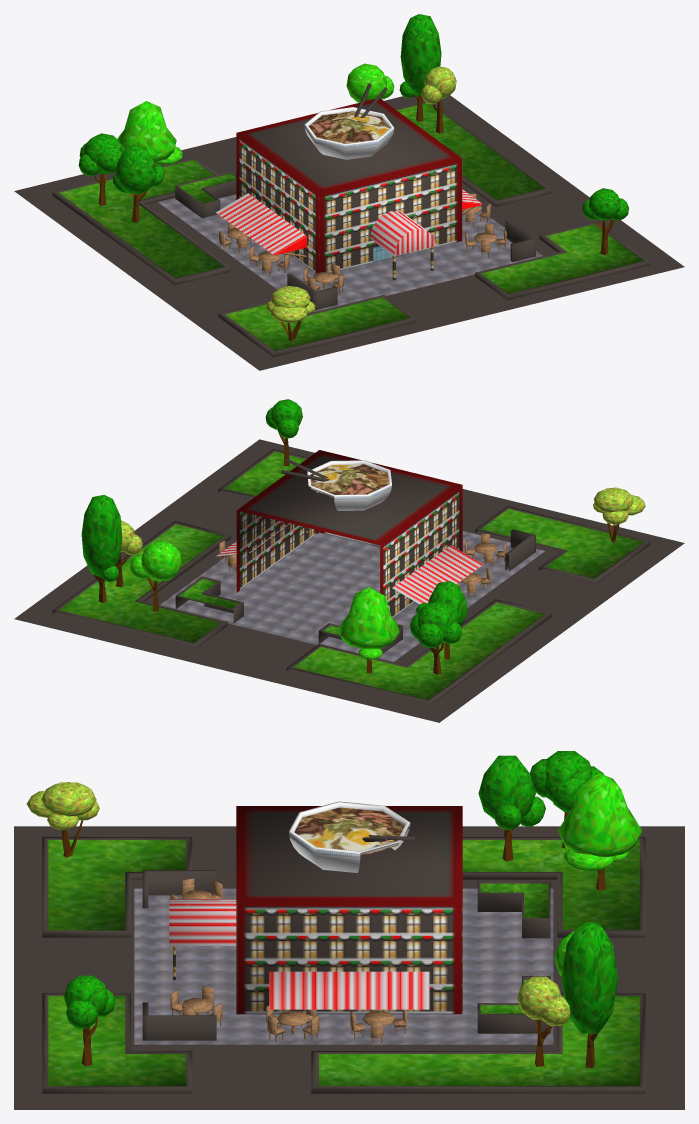
The model's file is restaurant_LV1.fbx.
3 views of the same model, one above another, from view 1: azimuth 30°, elevation 25°; view 2: azimuth 150°, elevation 25°; view 3: azimuth 270°, elevation 25° (orthographic). The views are drawn at different scales.
Parts seen in each view (by area): view 1: restaurant level 1; view 2: restaurant level 1; view 3: restaurant level 1.
Boxes of the visible parts, box(x1,y1,x2,y2) form: restaurant level 1: box(14, 14, 684, 370); restaurant level 1: box(14, 399, 684, 722); restaurant level 1: box(14, 751, 684, 1109).
Bounding box in the file's own units: 100 × 26.99 × 100.
